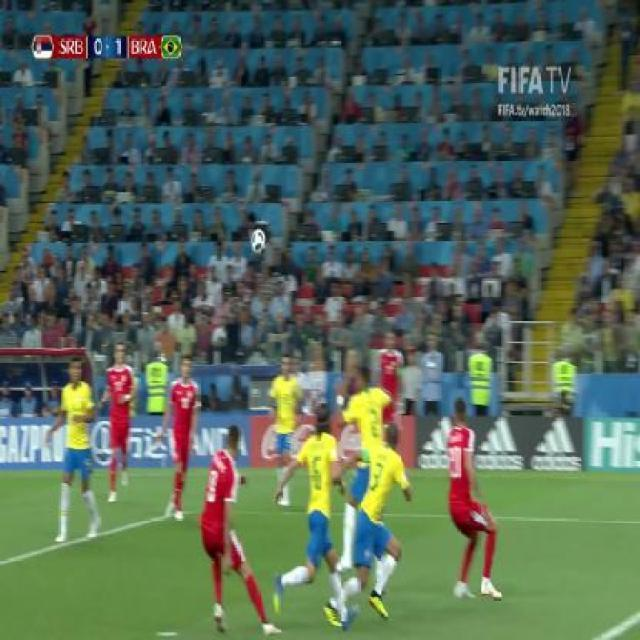ball: (248, 221, 268, 258)
player: (185, 418, 276, 631), (332, 421, 417, 629), (269, 401, 346, 618), (433, 390, 504, 606), (334, 351, 394, 579), (45, 352, 104, 545), (156, 351, 204, 522), (95, 337, 141, 505), (264, 350, 303, 515)
